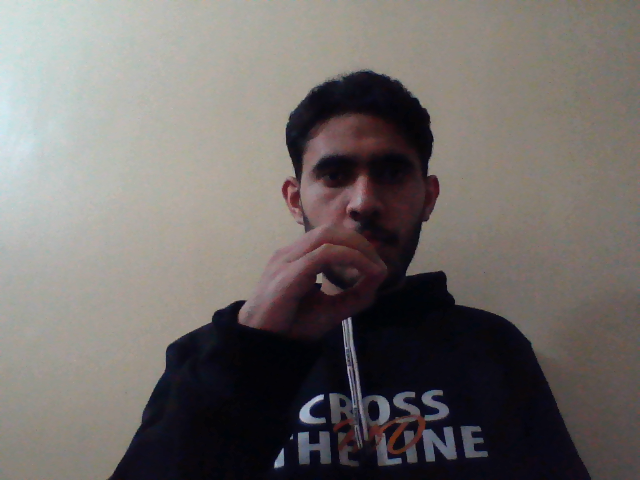O: (233, 221, 390, 344)
